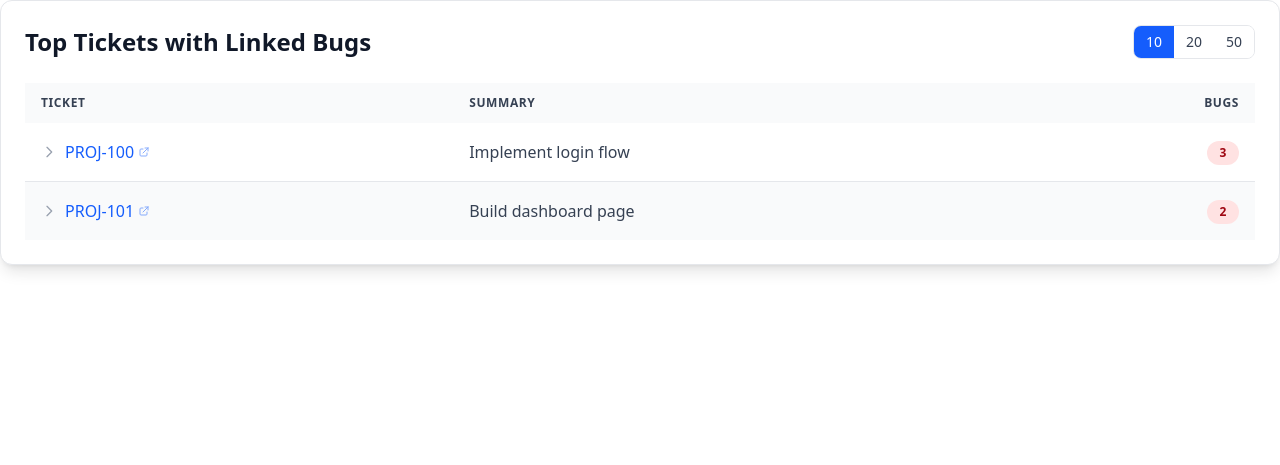
Scenario: TopTicketsWithBugsTable › expands and collapses a row on click
Expected: the link "PROJ-100" is shown, [65,140,150,164]
Expected: the text "Login button unresponsive" is not shown
Click the text "Implement login flow": (640, 152) [25,123,1255,182]
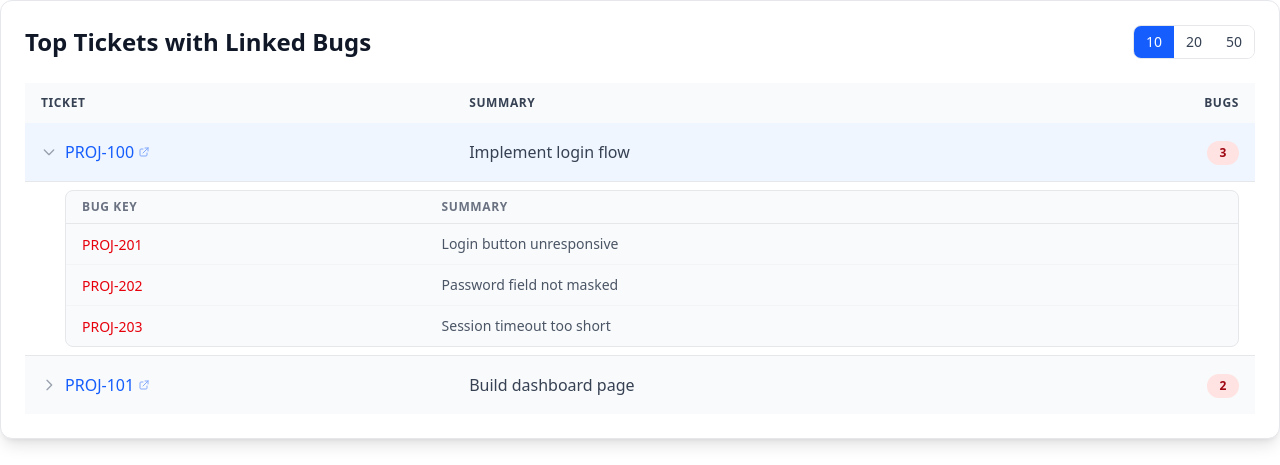
Now the text "Login button unresponsive" is shown, box [426,224,1238,264]
Now the text "Password field not masked" is shown, box [426,264,1238,306]
Now the text "Session timeout too short" is shown, box [426,306,1238,346]
Click again to collapse
Click the text "Implement login flow": (640, 152) [25,123,1255,182]
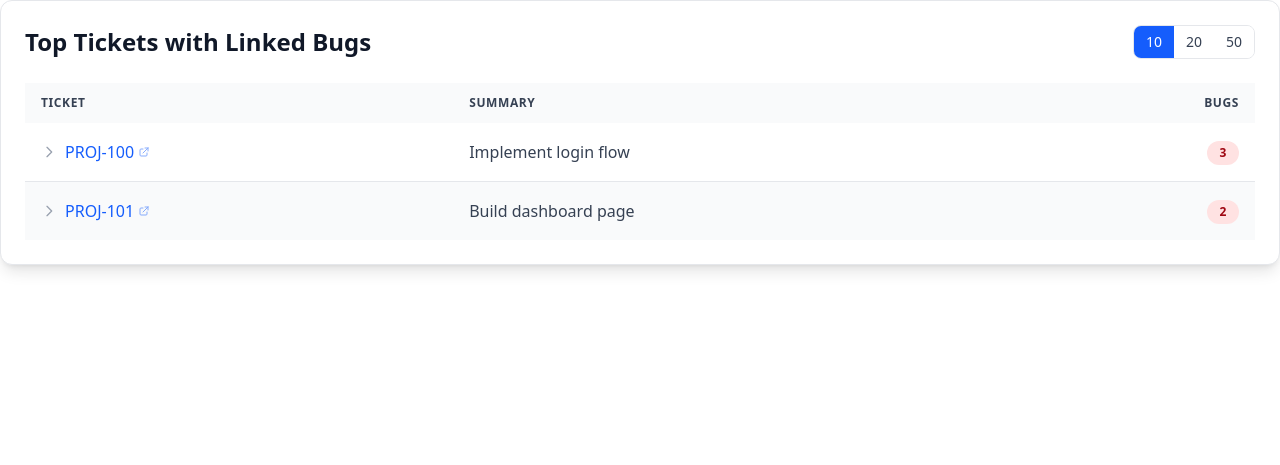
Now the text "Login button unresponsive" is gone
